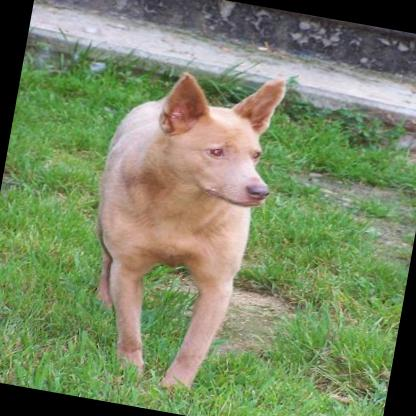kelpie: (60, 45, 290, 406)
